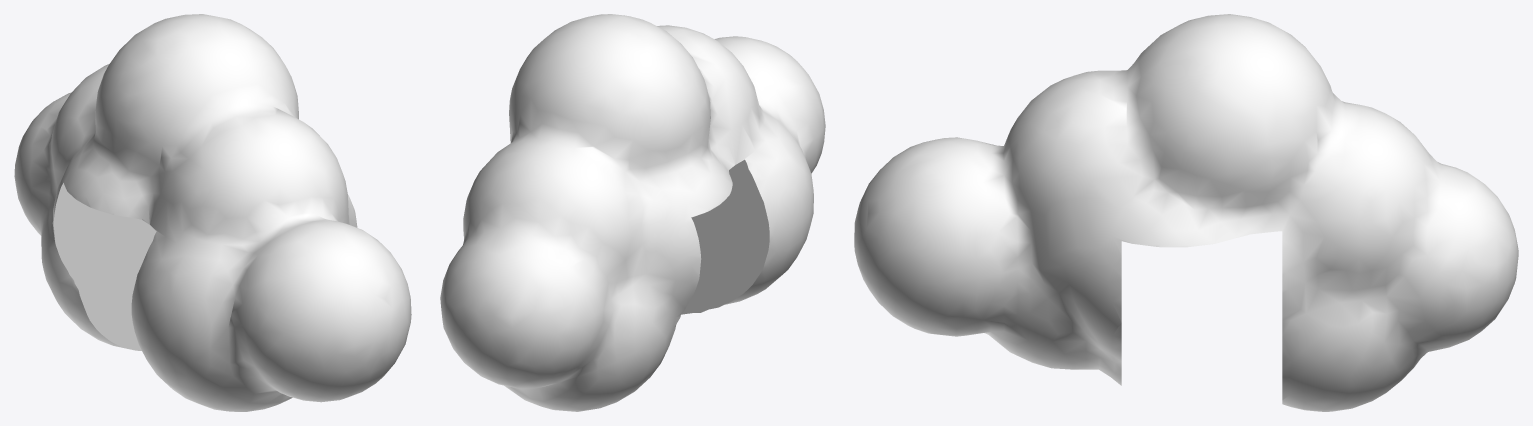
The model's file is chmura-dziura.gltf.
The picture shows the model from 3 angles, left to right: view 1: azimuth 30°, elevation 25°; view 2: azimuth 150°, elevation 25°; view 3: azimuth 270°, elevation 25°; orthographic projection. The views are drawn at different scales.
Visible parts, largest first — view 1: Mball.014; view 2: Mball.014; view 3: Mball.014.
Part boxes in pixels (bbox=[...]): Mball.014: bbox=[14, 14, 411, 411]; Mball.014: bbox=[440, 14, 825, 411]; Mball.014: bbox=[854, 14, 1518, 411].
Bounding box in the file's own units: 4.57 × 6.48 × 10.26.
1 material, 1 textured.
